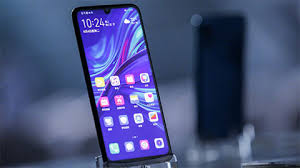huawei: (68, 4, 178, 168)
